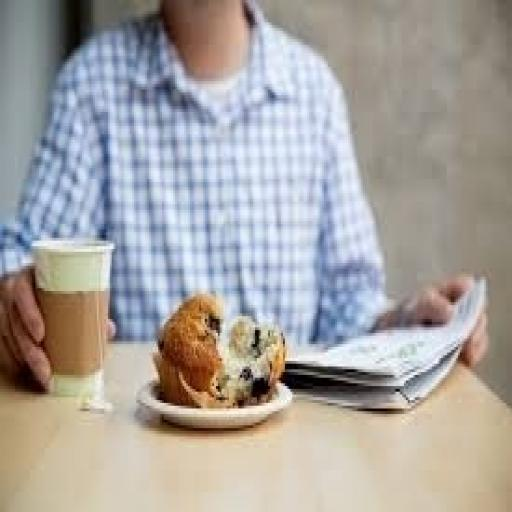eating: (0, 0, 490, 392)
